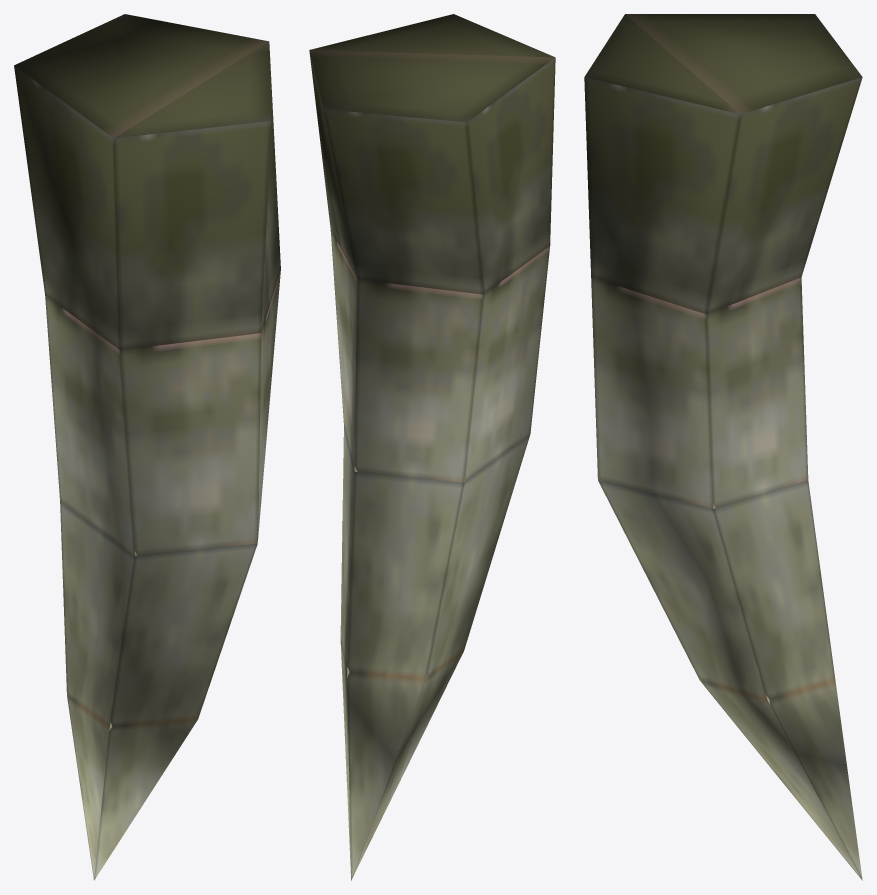
The picture shows the model from 3 angles, left to right: view 1: azimuth 30°, elevation 25°; view 2: azimuth 150°, elevation 25°; view 3: azimuth 270°, elevation 25°; orthographic projection. The views are drawn at different scales.
Parts seen in each view (by area): view 1: T1L5M004_10; view 2: T1L5M004_10; view 3: T1L5M004_10.
Boxes of the visible parts, box(x1,y1,x2,y2) form: T1L5M004_10: box(14, 14, 280, 880); T1L5M004_10: box(309, 14, 555, 880); T1L5M004_10: box(584, 14, 862, 880).
Bounding box in the file's own units: 0.0342 × 0.1299 × 0.04.
